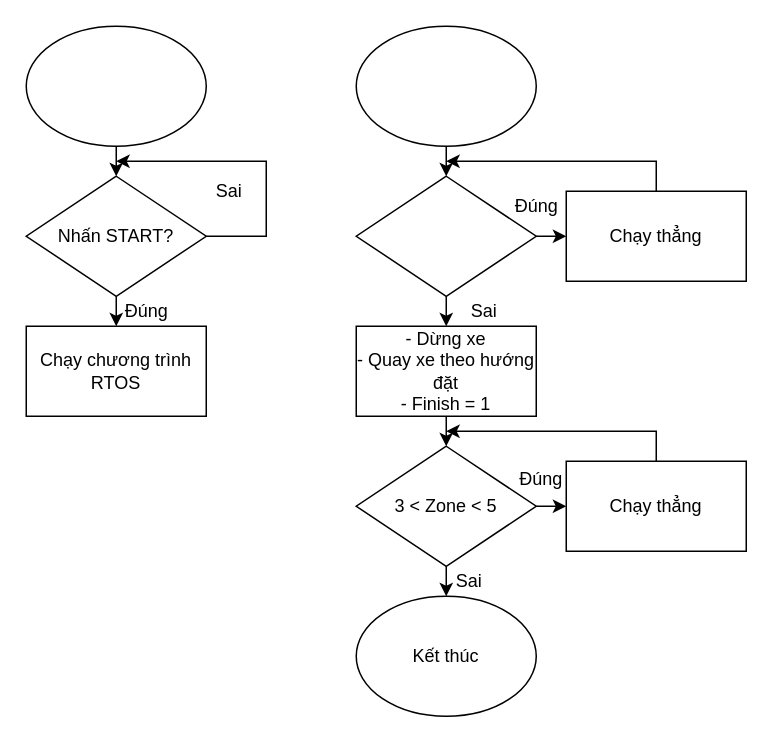
Some shapes in this 773 by 743 pixel diagram are drawn without their labels. Here are the shapes that lost their labels. From the top down, the box of each, then its label:
(25, 25, 206, 146): BẮT ĐẦU
(355, 25, 536, 146): Chương trình RTOS
(355, 175, 536, 296): Zone < 3
